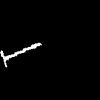double_crochet: (1, 43, 40, 66)
